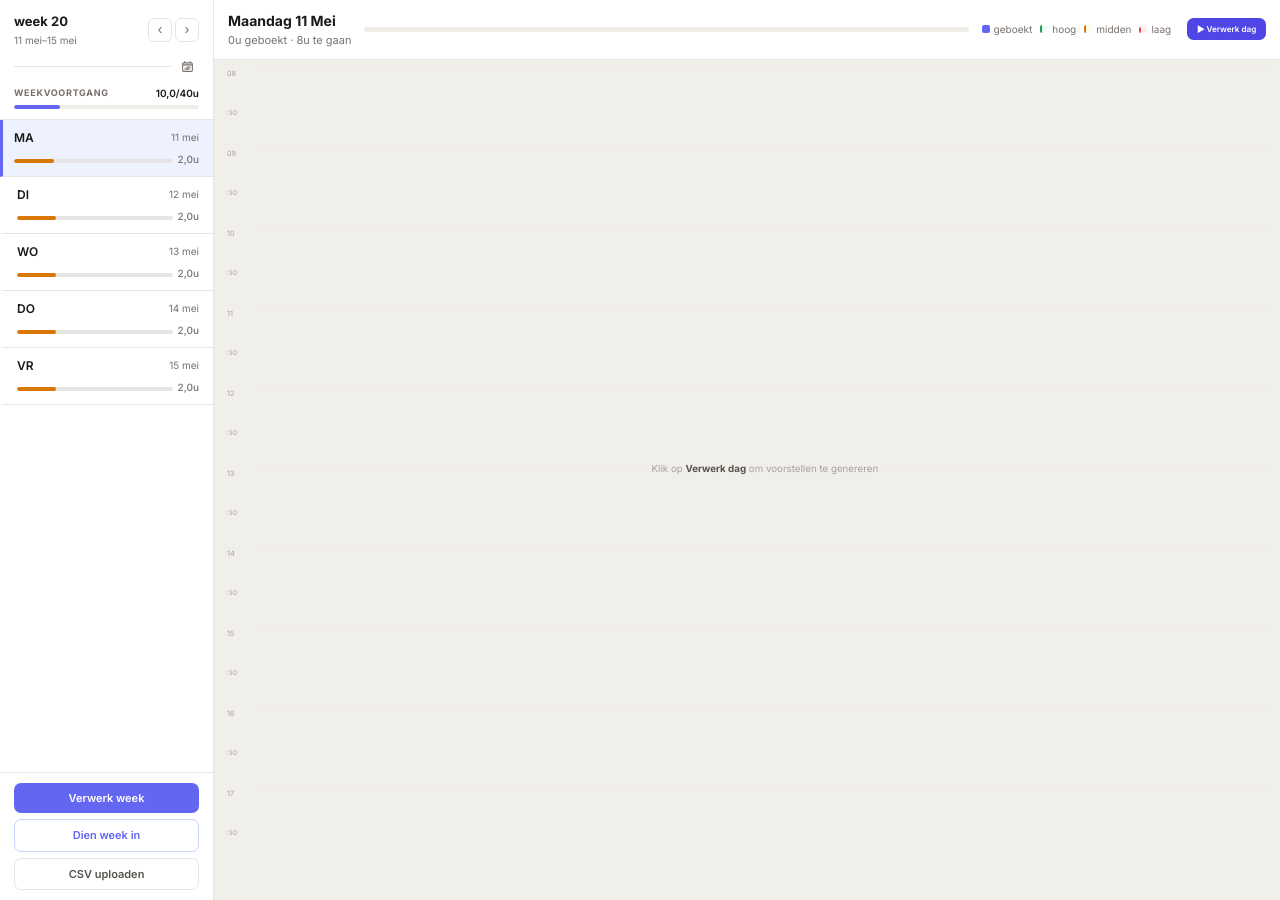
Scenario: process week › handles error phase
Click the button with test id "process-week" at (106, 798), box [14,782,199,813]
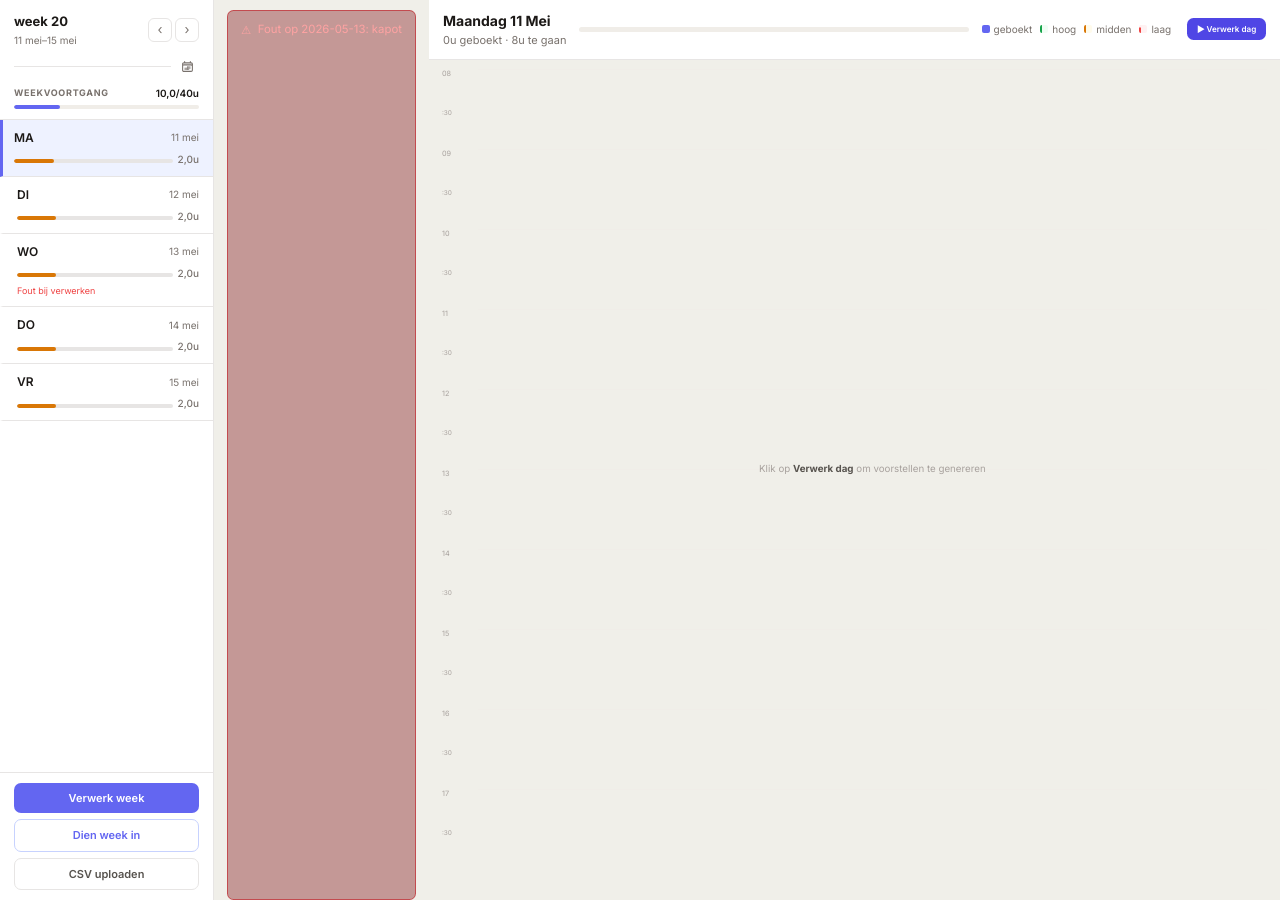
Now the text "Fout op 2026-05-13: kapot" is shown, box [258,20,402,37]
